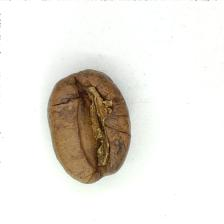NG: (59, 77, 123, 176)
